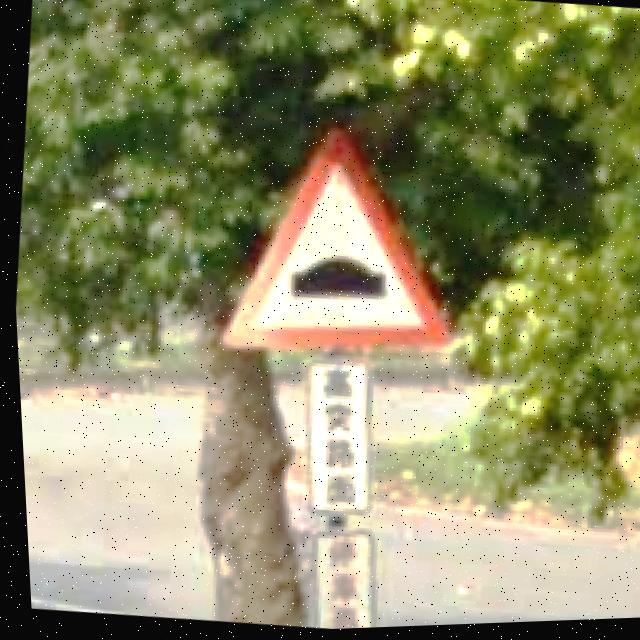hump: (216, 138, 446, 349)
